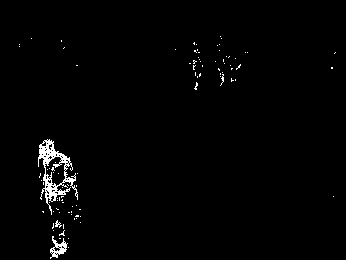person: (36, 138, 80, 259)
